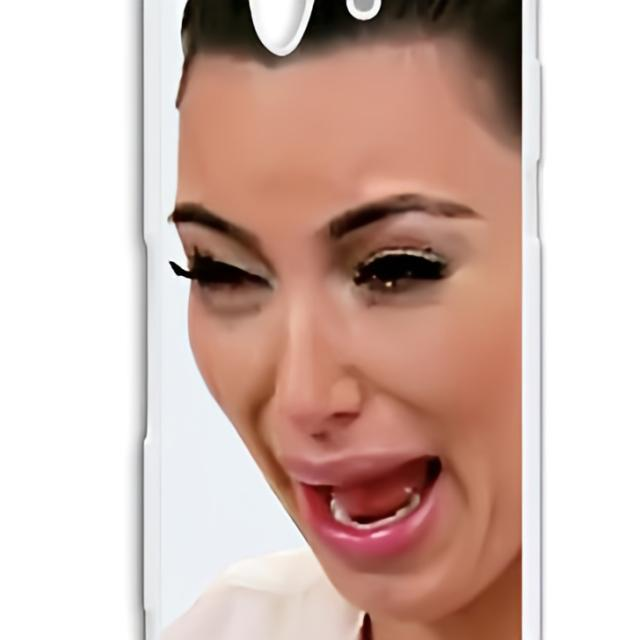sad: (164, 27, 522, 626)
